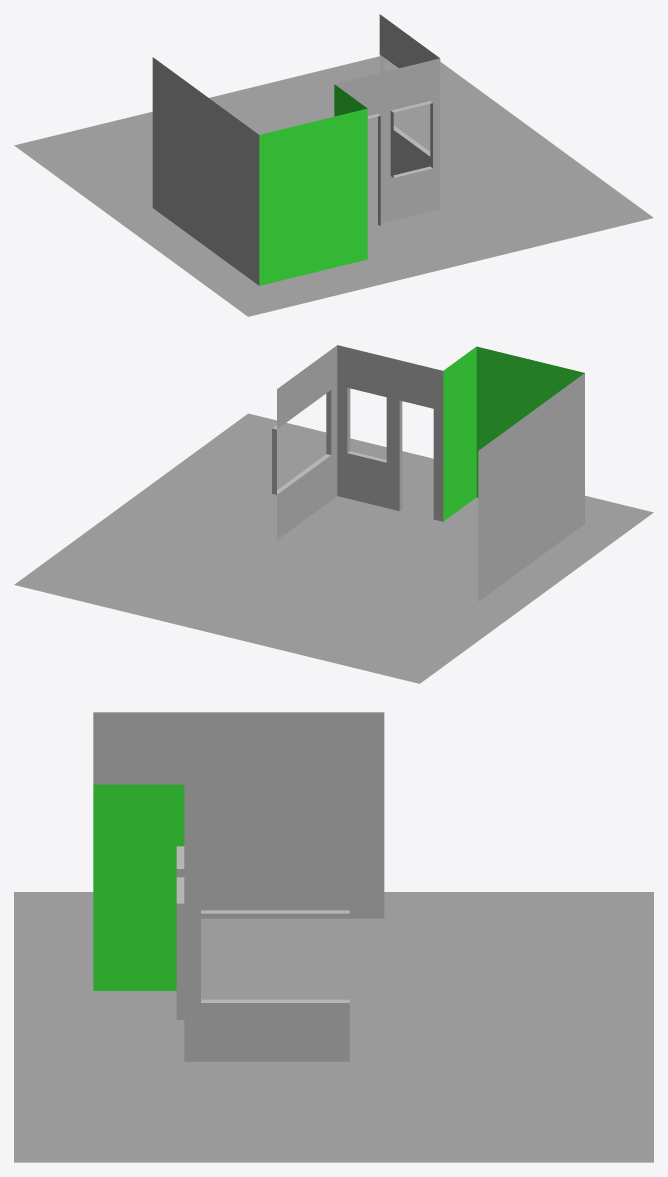
The model's file is roomTest.fbx.
3 renders of one model, top to bottom at view 1: azimuth 30°, elevation 25°; view 2: azimuth 150°, elevation 25°; view 3: azimuth 270°, elevation 25°, orthographic. The views are drawn at different scales.
Parts seen in each view (by area): view 1: pPlane1, walls; view 2: pPlane1, walls; view 3: pPlane1, walls.
Part boxes in pixels (x1,y1,x2,y2): pPlane1: (14,56,653,316); walls: (152,14,440,285); pPlane1: (14,413,653,683); walls: (272,345,584,601); pPlane1: (14,892,653,1162); walls: (93,712,384,1061).
Size of the model in its own units: 844 by 300 by 844.
